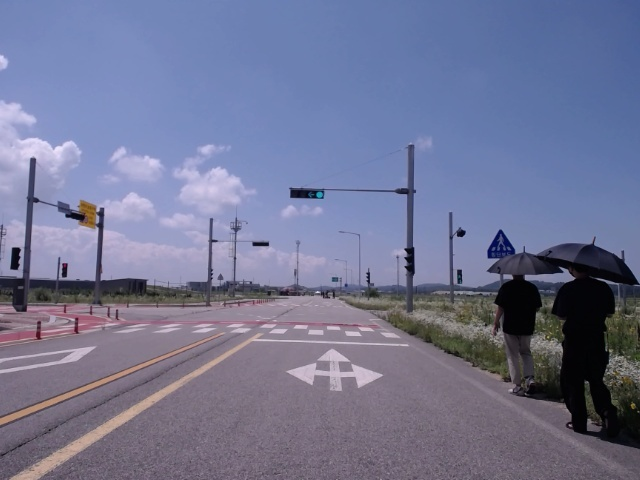all_green_4: (291, 188, 325, 202)
